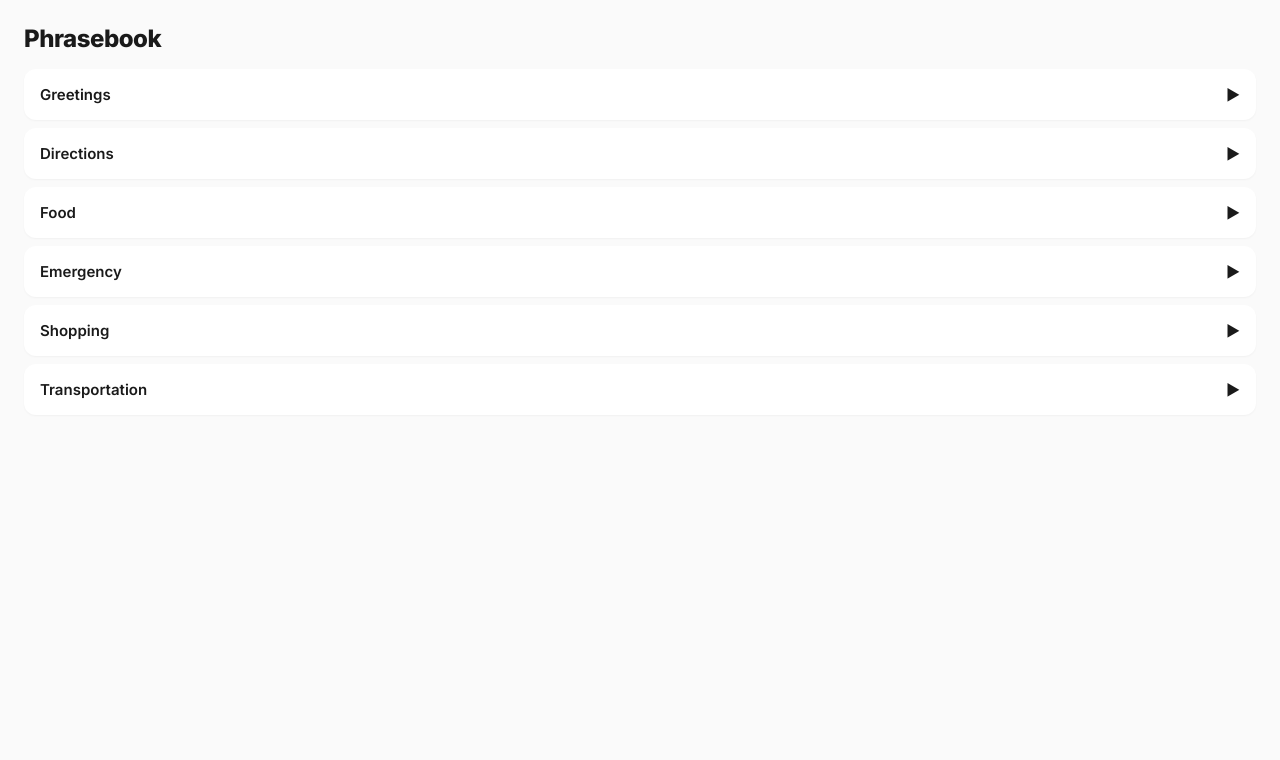
Scenario: Phrasebook › has speak buttons with proper ARIA labels
This screenshot has width=1280, height=760.
Click the text "Greetings" at (75, 94), box [40, 85, 111, 104]
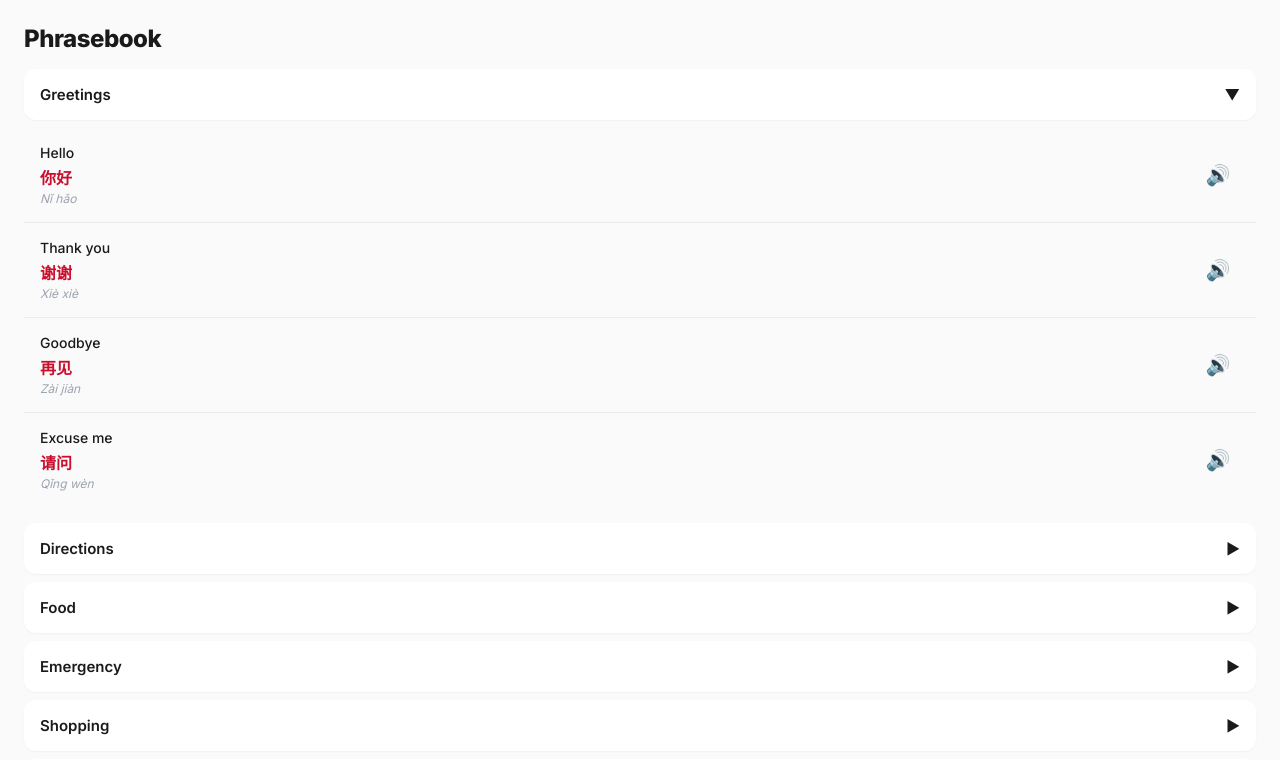
Check: the button named "Speak Hello in Chinese" is shown, box [1196, 153, 1240, 197]
